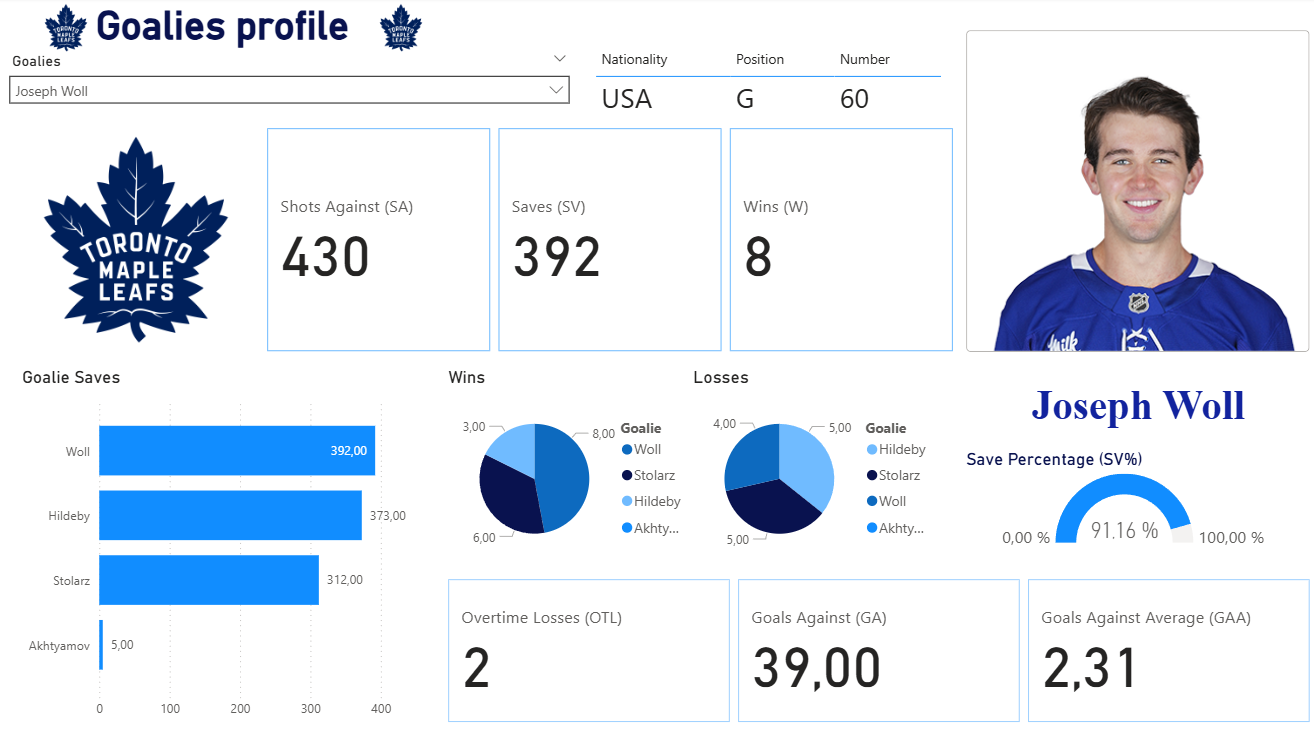

What the dashboard file says about the page in this screenshot:
{"tool":"powerbi","page":{"name":"goalies profile","canvas":[1280,720],"ordinal":3},"visuals":[{"type":"slicer","fields":{"Values":["leafs.Personalizado"]},"box":[0,49,564.6,68.9],"z":0},{"type":"advancedSlicerVisual","fields":{"Values":["leafs.hs"]},"box":[935.3,27.3,344.7,323.3],"z":1000},{"type":"gauge","fields":{"Y":["Sum(current stats.goalies.savePercentage)"]},"box":[935.3,439.7,335.2,101],"z":2000},{"type":"cardVisual","fields":{"Data":["Sum(current stats.goalies.overtimeLosses)","Avg(current stats.goalies.goalsAgainst)","Avg(now goalies.goalies.goalsAgainstAverage)"]},"box":[431.4,561,848.6,149.7],"z":3000},{"type":"cardVisual","fields":{"Data":["Sum(current stats.goalies.shotsAgainst)","Sum(current stats.goalies.saves)","Sum(current stats.goalies.wins)"]},"box":[255.5,122.4,679.8,227],"z":4000},{"type":"card","fields":{"Values":["Min(leafs.Personalizado)"]},"box":[935.3,350.6,344.7,89.1],"z":5000},{"type":"tableEx","fields":{"Values":["leafs.birthCountry","leafs.positionCode","leafs.n"]},"box":[574.6,45.2,347.4,77.3],"z":6000},{"type":"image","box":[9.5,122.4,246,227],"z":7000},{"type":"clusteredBarChart","title":"Goalie Saves","fields":{"Y":["Avg(now goalies.goalies.saves)"],"Category":["now goalies.goalies.lastName.default"]},"box":[17.8,360.1,401.7,350.6],"z":9000},{"type":"pieChart","title":"Wins","fields":{"Y":["Avg(now goalies.goalies.wins)"],"Category":["now goalies.goalies.lastName.default"]},"box":[431.4,360.1,250.8,198.5],"z":10000},{"type":"pieChart","title":"Losses","fields":{"Y":["Avg(now goalies.goalies.losses)"],"Category":["now goalies.goalies.lastName.default"]},"box":[670.3,360.1,250.8,198.5],"z":11000},{"type":"textbox","box":[89.5,0,333.6,59.3],"z":11001},{"type":"image","box":[357.9,0,65.2,60.3],"z":11002},{"type":"image","box":[32.1,0,65.2,60.3],"z":11003}]}

Visuals, with their boxes in screenshot pixels (x1, y1, x2, y2), scaled from the page's 1280x720 canvas onto the 1314x733 screenshot:
slicer - leafs.Personalizado: 0, 50, 580, 120
advancedSlicerVisual - leafs.hs: 960, 28, 1313, 357
gauge - Sum(current stats.goalies.savePercentage): 960, 448, 1304, 550
cardVisual - Sum(current stats.goalies.overtimeLosses) x Avg(current stats.goalies.goalsAgainst): 443, 571, 1313, 724
cardVisual - Sum(current stats.goalies.shotsAgainst) x Sum(current stats.goalies.saves): 262, 125, 960, 356
card - Min(leafs.Personalizado): 960, 357, 1313, 448
tableEx - leafs.birthCountry x leafs.positionCode: 590, 46, 946, 125
image: 10, 125, 262, 356
"Goalie Saves" clusteredBarChart: 18, 367, 431, 724
"Wins" pieChart: 443, 367, 700, 569
"Losses" pieChart: 688, 367, 946, 569
textbox: 92, 0, 434, 60
image: 367, 0, 434, 61
image: 33, 0, 100, 61
